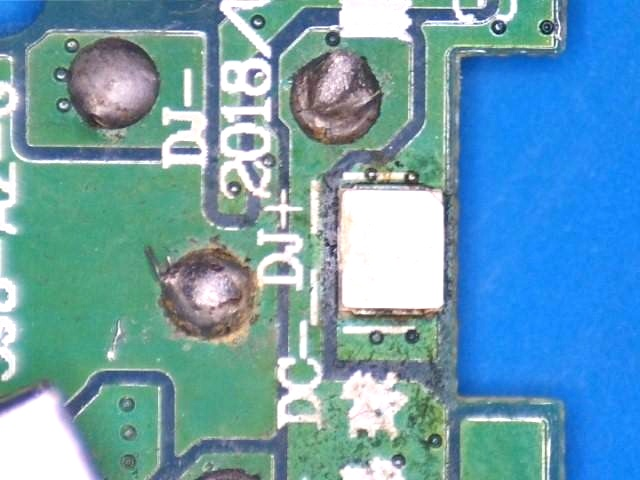pcb_defect: (291, 50, 383, 144), (162, 247, 254, 340), (67, 37, 160, 128)
